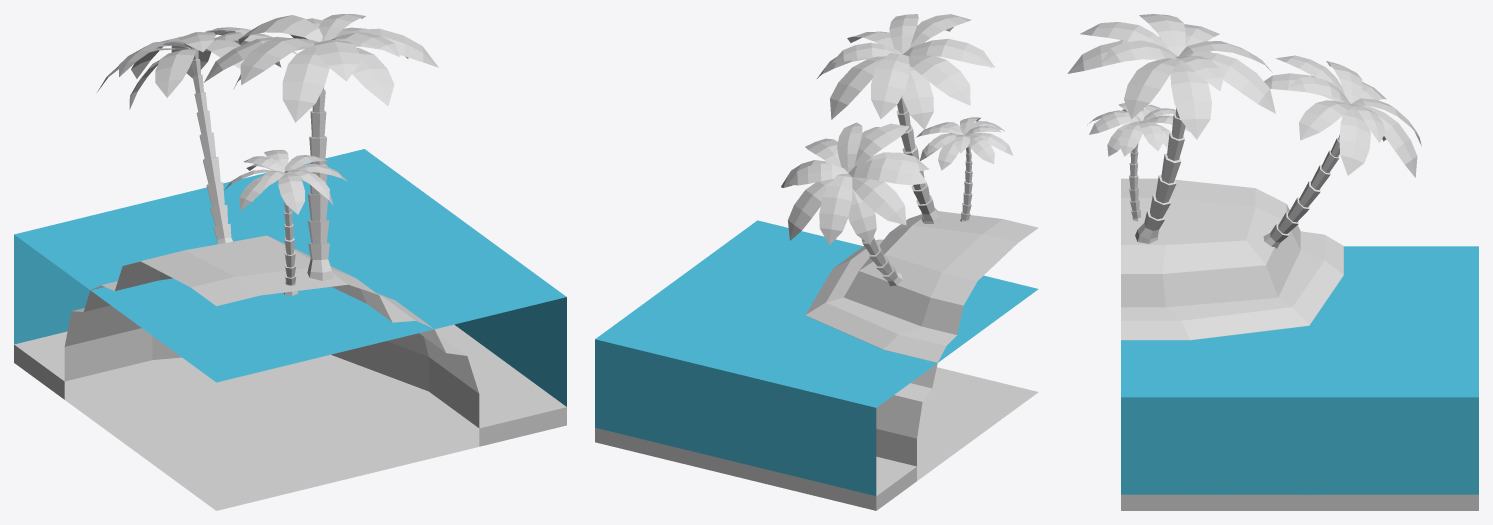
Rendered from Corner3.fbx.
3 views of the same model, side by side, from view 1: azimuth 30°, elevation 25°; view 2: azimuth 150°, elevation 25°; view 3: azimuth 270°, elevation 25° (orthographic). The views are drawn at different scales.
Parts seen in each view (by area): view 1: Corner3; view 2: Corner3; view 3: Corner3.
Part boxes in pixels (left/top/right/bottom): Corner3: left=14, top=14, right=566, bottom=510; Corner3: left=595, top=14, right=1038, bottom=510; Corner3: left=1067, top=14, right=1478, bottom=510.
Size of the model in its own units: 200 by 236 by 230.
